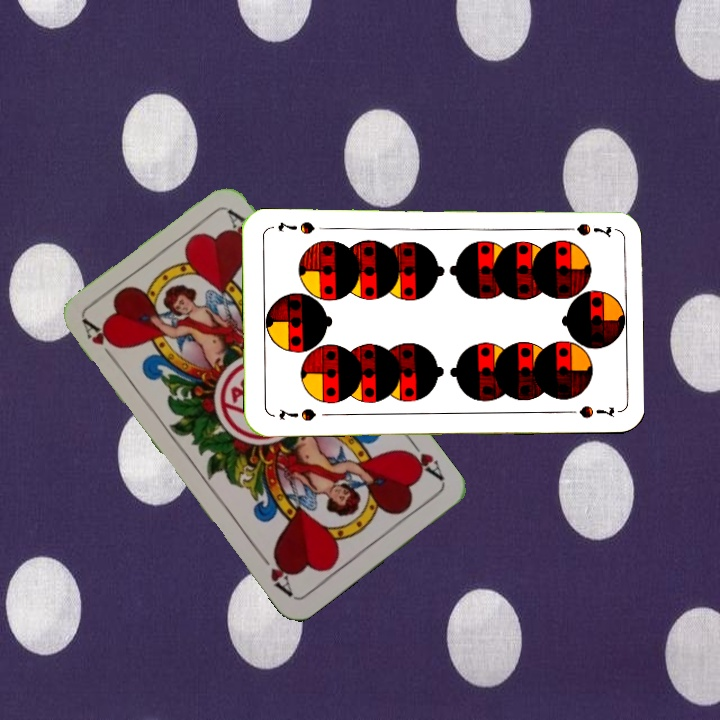HA: (400, 435, 447, 484), (79, 316, 123, 367)
S7: (556, 219, 615, 239), (274, 404, 319, 424)
